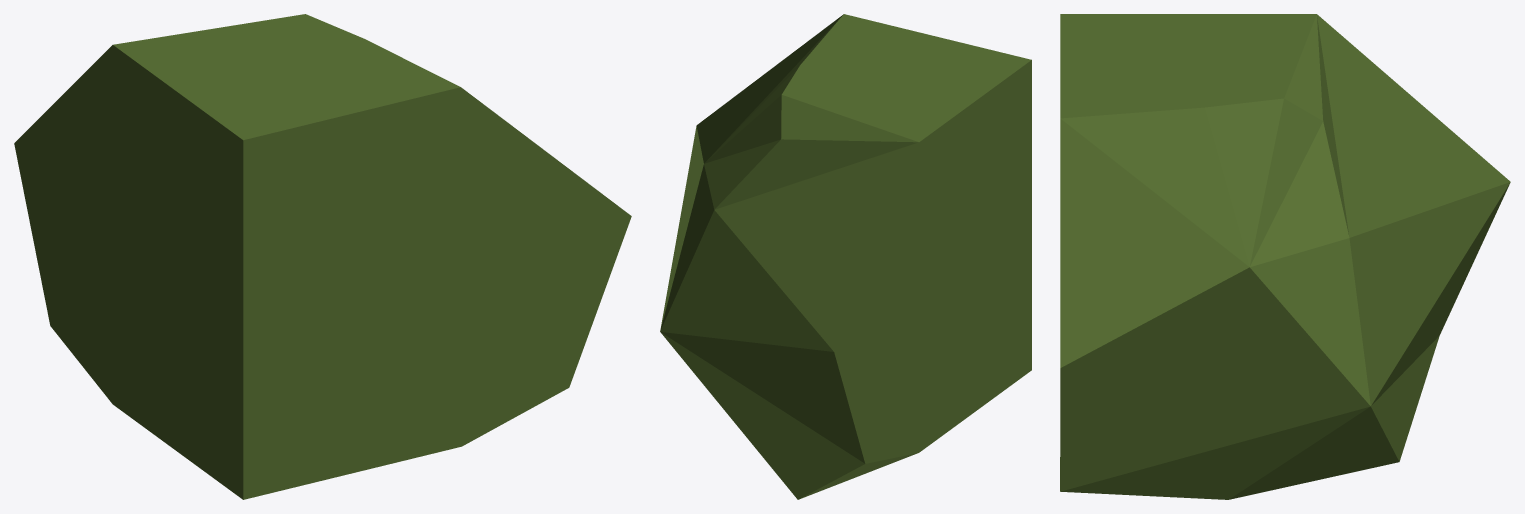
File: LightVegetationEdgeSmallExternalCurve1.fbx
3 renders of one model, left to right at view 1: azimuth 30°, elevation 25°; view 2: azimuth 150°, elevation 25°; view 3: azimuth 270°, elevation 25°, orthographic. The views are drawn at different scales.
Parts seen in each view (by area): view 1: LightVegetationEdgeEdgeSmallExternalCurve1; view 2: LightVegetationEdgeEdgeSmallExternalCurve1; view 3: LightVegetationEdgeEdgeSmallExternalCurve1.
Boxes of the visible parts, left/top/right/bottom form: LightVegetationEdgeEdgeSmallExternalCurve1: left=14, top=14, right=631, bottom=499; LightVegetationEdgeEdgeSmallExternalCurve1: left=660, top=14, right=1031, bottom=499; LightVegetationEdgeEdgeSmallExternalCurve1: left=1060, top=14, right=1510, bottom=499.
Size of the model in its own units: 226 by 227 by 231.
